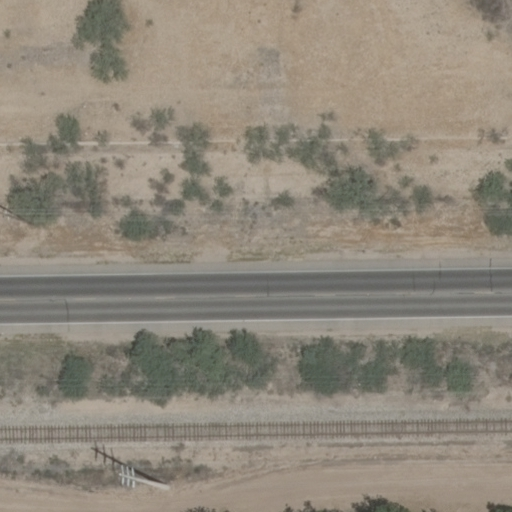DT: (114, 465, 169, 490)
